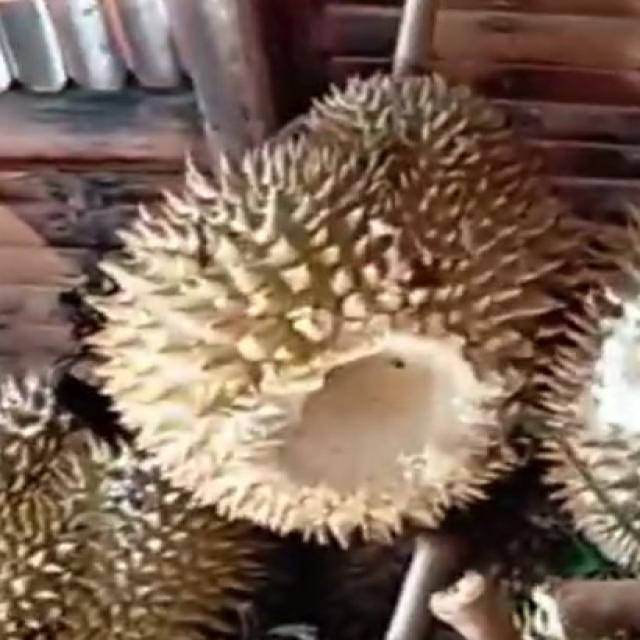defective: (66, 59, 570, 556)
